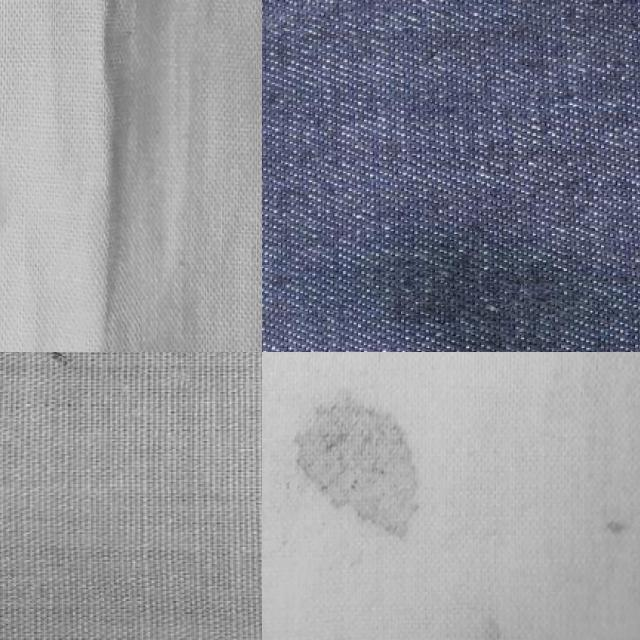Hole: (274, 364, 456, 563), (538, 394, 640, 588)
